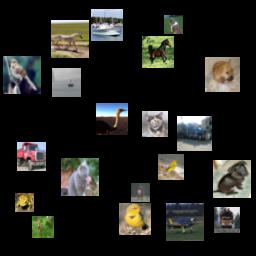airplane: (166, 203, 204, 241)
bird: (3, 56, 41, 94), (119, 203, 151, 235), (96, 103, 128, 135), (158, 154, 184, 180)
cat: (61, 158, 99, 196), (142, 111, 168, 137)
deer: (32, 216, 54, 238), (131, 183, 150, 202)
dog: (213, 160, 251, 198), (205, 57, 240, 92), (164, 15, 183, 34)
frog: (15, 193, 34, 212)
ship: (91, 9, 123, 41), (52, 68, 81, 97)
truck: (177, 116, 212, 151), (17, 142, 46, 171), (214, 207, 240, 233)
